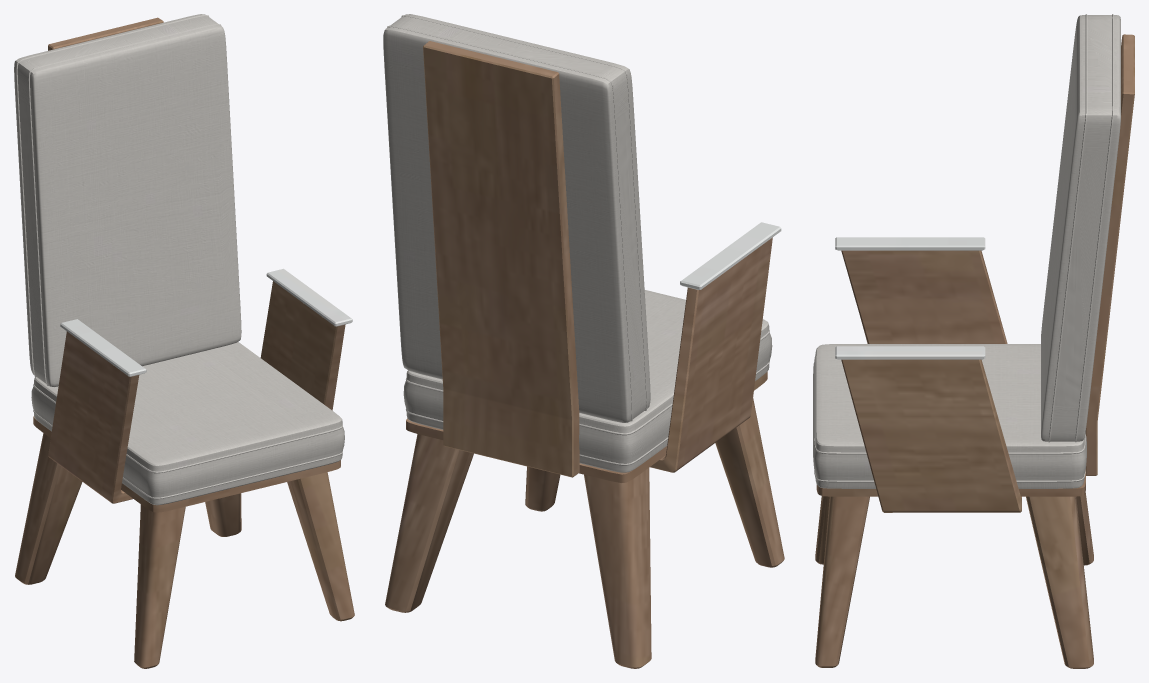
Rendered from cargo_retro_chair.glb.
3 renders of one model, left to right at view 1: azimuth 30°, elevation 25°; view 2: azimuth 150°, elevation 25°; view 3: azimuth 270°, elevation 25°, orthographic. The views are drawn at different scales.
Parts seen in each view (by area): view 1: KB3D_ATP_PropChair_B_Main; view 2: KB3D_ATP_PropChair_B_Main; view 3: KB3D_ATP_PropChair_B_Main.
Part boxes in pixels (<box>): KB3D_ATP_PropChair_B_Main: <box>14,14,354,668</box>; KB3D_ATP_PropChair_B_Main: <box>383,14,784,668</box>; KB3D_ATP_PropChair_B_Main: <box>813,14,1134,668</box>.
Size of the model in its own units: 0.5667 by 1.23 by 0.65.
3 materials, 3 textured.
